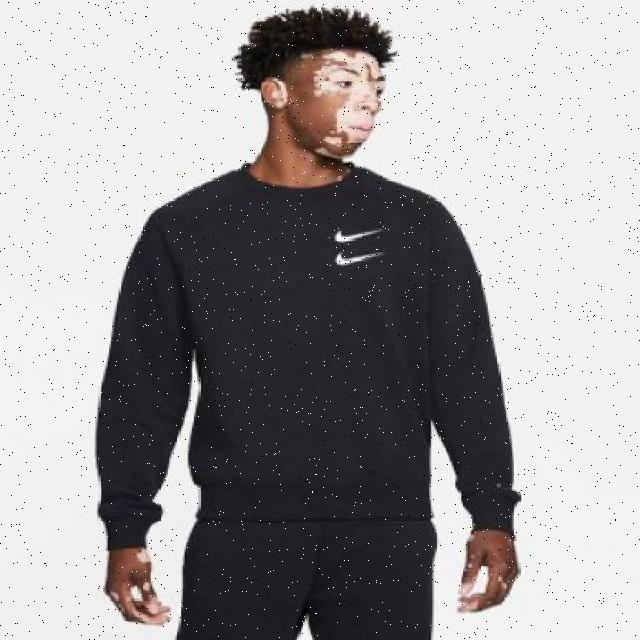Nike: (333, 248, 381, 264), (332, 224, 382, 239)
